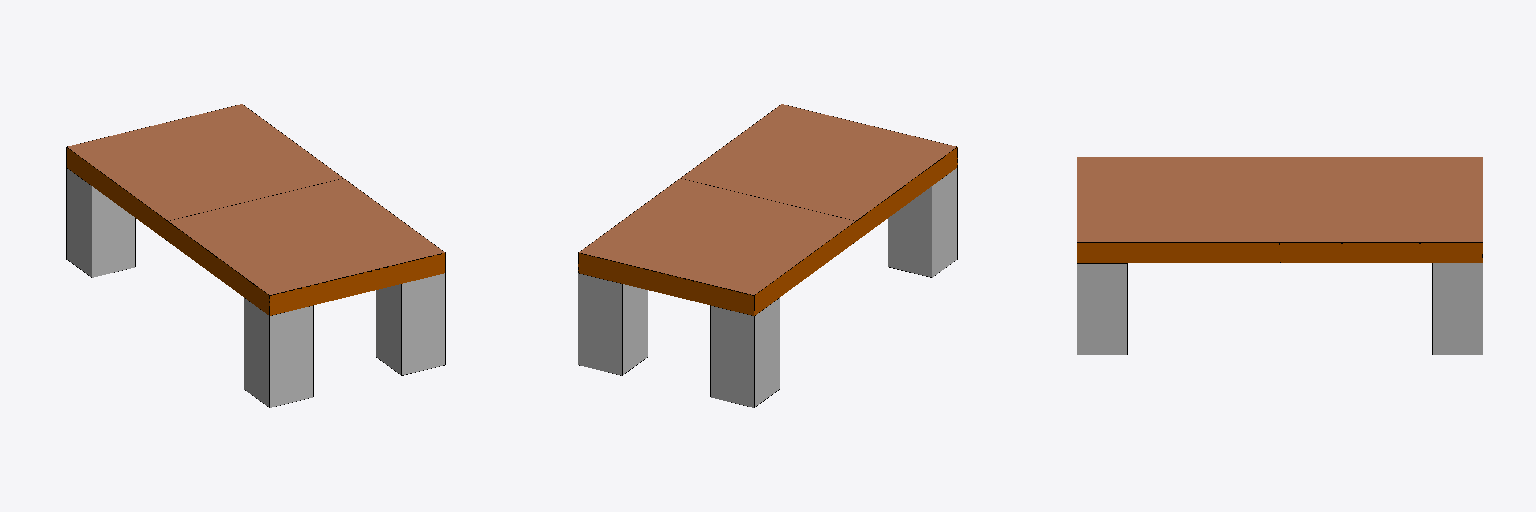
3 views of the same model, side by side, from view 1: azimuth 30°, elevation 25°; view 2: azimuth 150°, elevation 25°; view 3: azimuth 270°, elevation 25° (orthographic).
Parts seen in each view (by area): view 1: Cube; view 2: Cube; view 3: Cube.
Boxes of the visible parts, x1=… form: Cube: x1=66, y1=104, x2=445, y2=407; Cube: x1=578, y1=104, x2=957, y2=407; Cube: x1=1077, y1=157, x2=1482, y2=354.
Size of the model in its own units: 2 by 1.22 by 4.
Materials: 1 (1 with a texture image).